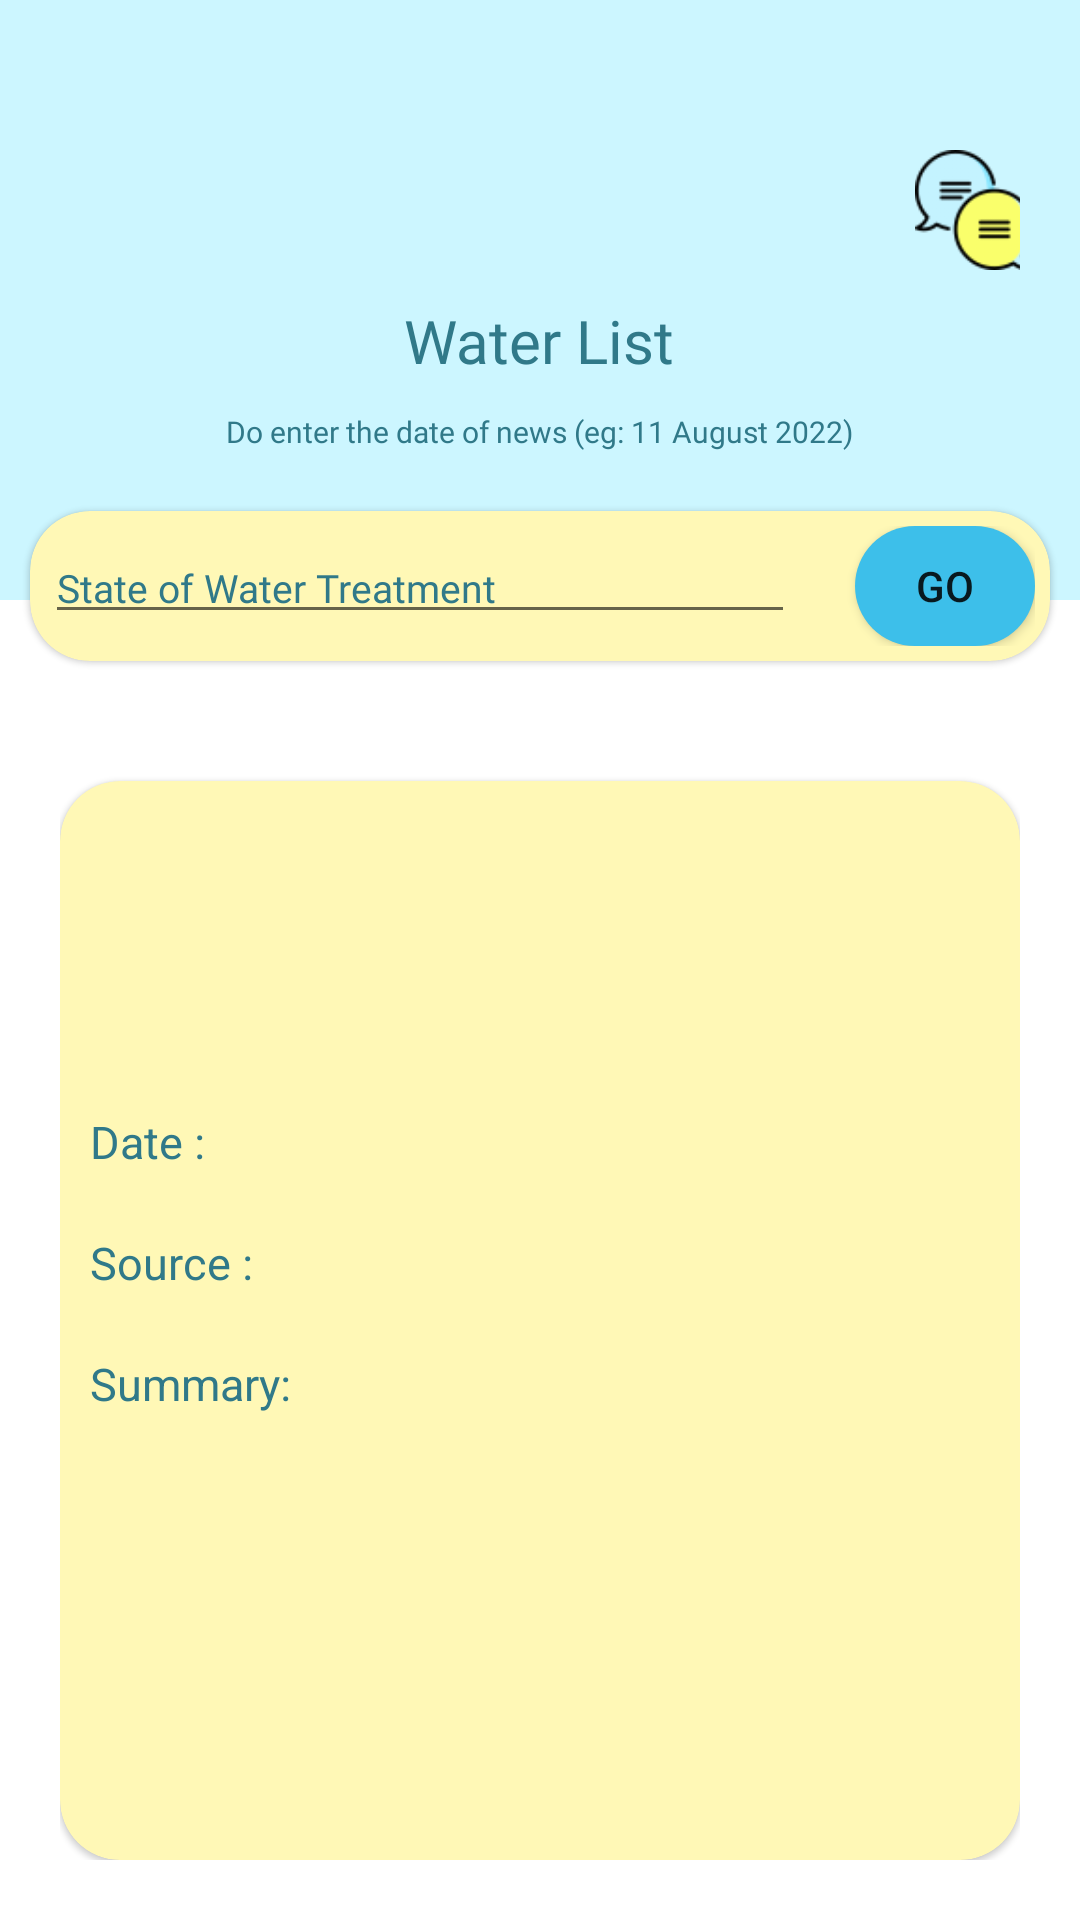

Named icons in this screenshot (1080w x 1920h) and their bounding boxes, {"x1": x1, "y1": y1, "x2": x2, "y2": y2}:
chatbubble: {"x1": 915, "y1": 150, "x2": 1020, "y2": 270}
